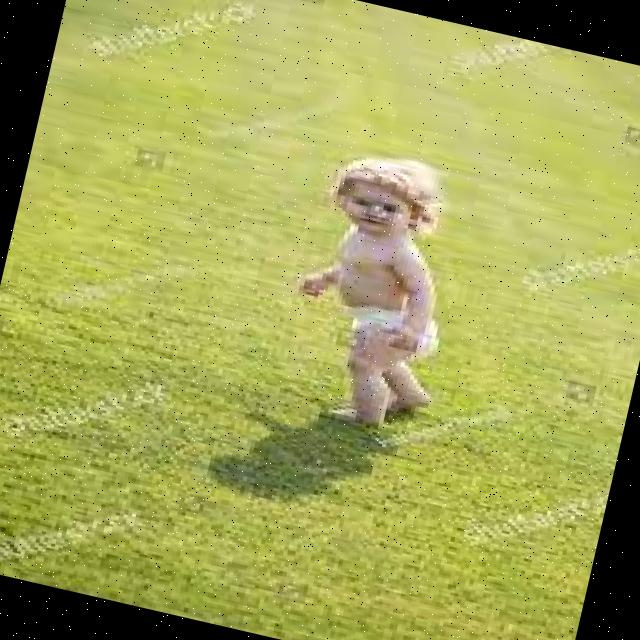Person: (274, 143, 485, 443)
